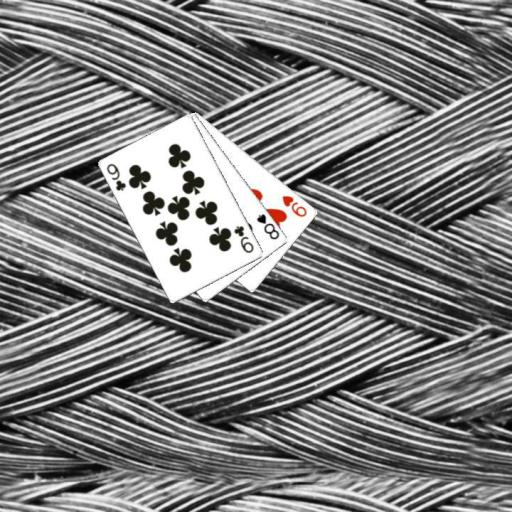8S: (254, 211, 281, 241)
9C: (104, 160, 128, 193), (231, 223, 255, 255)
9H: (280, 192, 309, 218)
